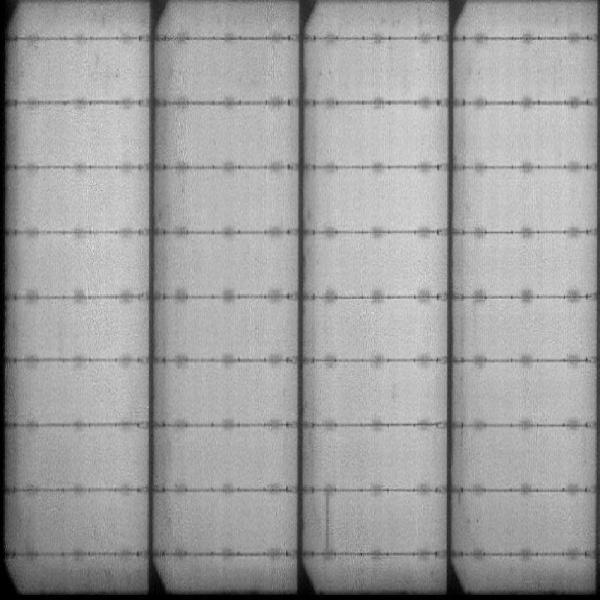scratch: (320, 493, 333, 558)
